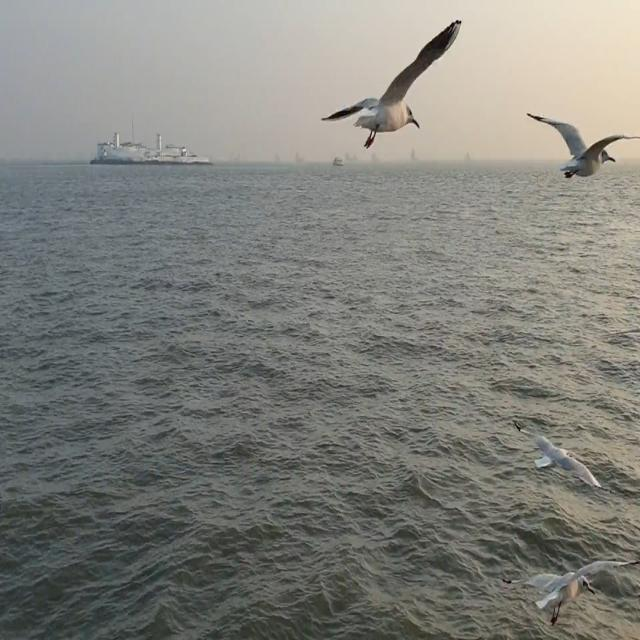bird: (314, 12, 472, 167), (502, 546, 640, 622), (526, 106, 640, 186), (512, 412, 607, 499)
